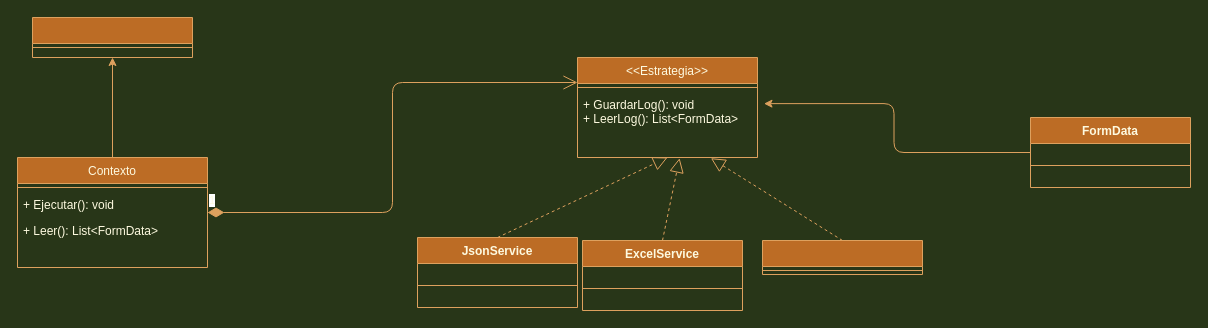
The diagram is 1208 pixels wide and 328 high, and some of its shapes have lost their labels. The shapes that lost their labels are listed below. From the top down, each one's centre as x and y in pixels, then its label:
pixel 112 37: Cliente
pixel 842 257: TxtService
